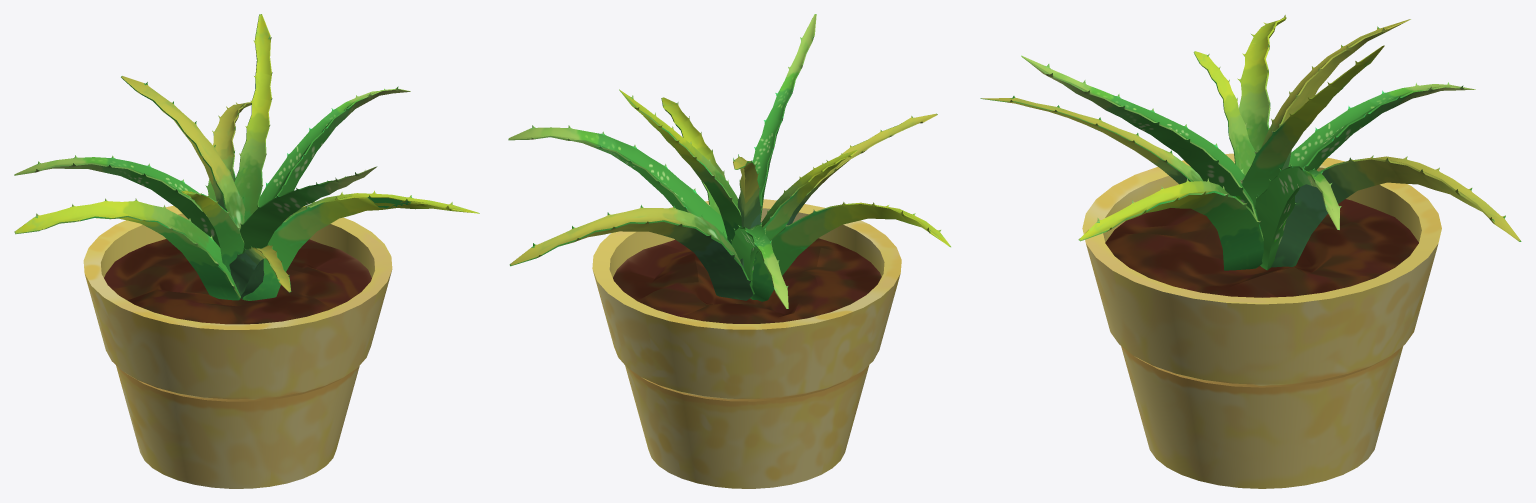
File: aloevera_bad.glb
3 renders of one model, left to right at view 1: azimuth 30°, elevation 25°; view 2: azimuth 150°, elevation 25°; view 3: azimuth 270°, elevation 25°, orthographic. The views are drawn at different scales.
Parts seen in each view (by area): view 1: Pot, Leaf.001, Leaf.003, Leaf, Leaf.005, Leaf.007, Leaf.002, Leaf.006, Leaf.008, Leaf.009, Leaf.004; view 2: Pot, Leaf.004, Leaf.001, Leaf.002, Leaf, Leaf.006, Leaf.005, Leaf.009, Leaf.007, Leaf.003, Leaf.008; view 3: Pot, Leaf.004, Leaf.003, Leaf.006, Leaf, Leaf.005, Leaf.002, Leaf.001, Leaf.008, Leaf.007, Leaf.009.
Part boxes in pixels (box(x1,y1,x2,y2)): Pot: box(83, 205, 392, 488); Leaf.001: box(14, 198, 240, 300); Leaf.003: box(242, 190, 479, 300); Leaf: box(234, 14, 272, 222); Leaf.005: box(14, 155, 220, 247); Leaf.007: box(121, 76, 245, 230); Leaf.002: box(258, 86, 410, 206); Leaf.006: box(239, 166, 377, 253); Leaf.008: box(229, 243, 291, 298); Leaf.009: box(181, 189, 244, 273); Leaf.004: box(205, 102, 251, 201); Pot: box(592, 199, 901, 488); Leaf.004: box(509, 205, 754, 300); Leaf.001: box(744, 202, 950, 301); Leaf.002: box(508, 125, 727, 238); Leaf: box(619, 89, 755, 260); Leaf.006: box(752, 14, 816, 220); Leaf.005: box(730, 223, 788, 308); Leaf.009: box(761, 150, 857, 239); Leaf.007: box(733, 154, 762, 268); Leaf.003: box(661, 97, 725, 214); Leaf.008: box(787, 113, 937, 225); Pot: box(1082, 153, 1441, 488); Leaf.004: box(1271, 155, 1521, 267); Leaf.003: box(1078, 178, 1263, 270); Leaf.006: box(1021, 55, 1259, 224); Leaf: box(1240, 45, 1384, 218); Leaf.005: box(1288, 82, 1475, 170); Leaf.002: box(1255, 164, 1341, 270); Leaf.001: box(1237, 15, 1286, 152); Leaf.008: box(980, 96, 1202, 184); Leaf.007: box(1255, 19, 1410, 212); Leaf.009: box(1193, 51, 1255, 175).
Bounding box in the file's own units: 6.41 × 5.5 × 6.17.
Materials: 4 (4 with a texture image).
